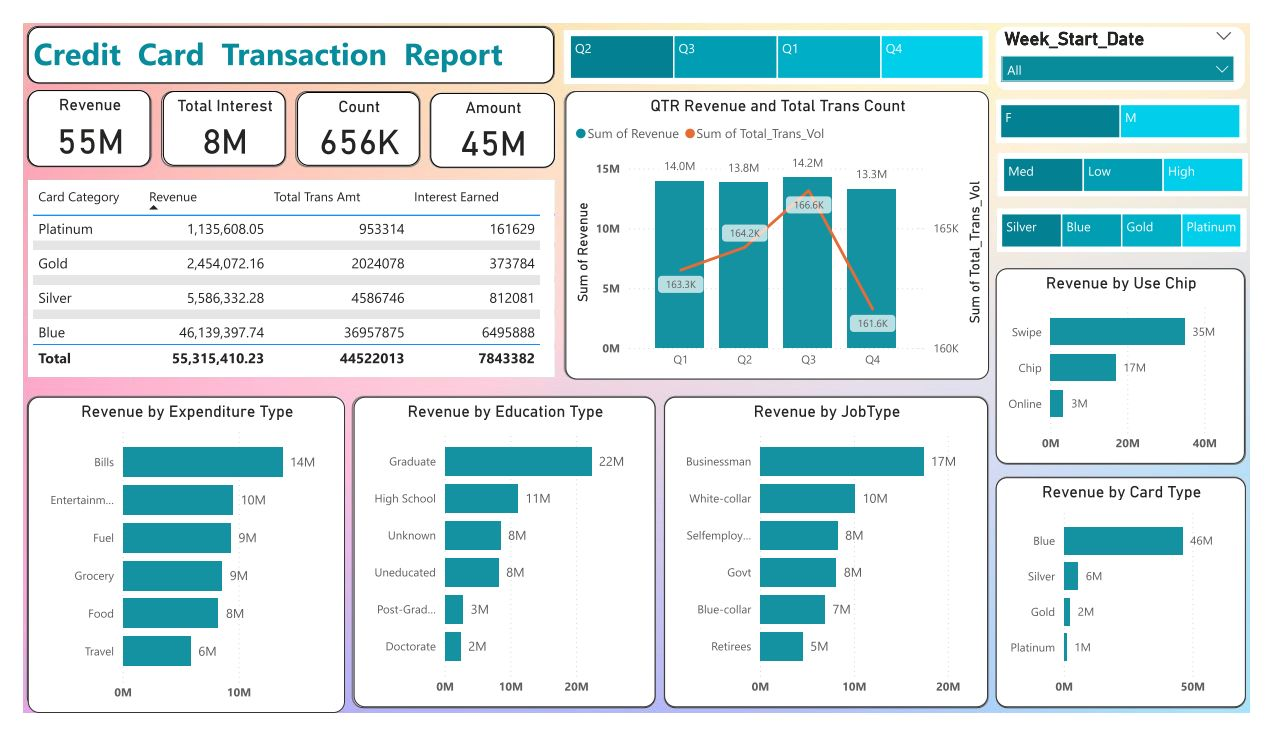

What the dashboard file says about the page in this screenshot:
{"tool":"powerbi","page":{"name":"CC Transaction","canvas":[1280,720],"ordinal":1},"visuals":[{"type":"textbox","box":[5.3,4,549,58.7],"z":0},{"type":"lineStackedColumnComboChart","title":"QTR Revenue and Total Trans Count","fields":{"Category":["Processed_Credit_Card_Data.Qtr"],"Y":["Sum(Processed_Credit_Card_Data.Revenue)"],"Y2":["Sum(Processed_Credit_Card_Data.Total_Trans_Vol)"]},"box":[565.8,71,441.7,300.8],"z":1000},{"type":"barChart","title":"Revenue by Expenditure Type","fields":{"Y":["Sum(Processed_Credit_Card_Data.Revenue)"],"Category":["Processed_Credit_Card_Data.Exp Type"]},"box":[5,390,330.6,330],"z":2000},{"type":"barChart","title":"Revenue by Education Type","fields":{"Y":["Sum(Processed_Credit_Card_Data.Revenue)"],"Category":["customer.Education_Level"]},"box":[345,390,315,324.4],"z":3000},{"type":"barChart","title":"Revenue by JobType","fields":{"Y":["Sum(Processed_Credit_Card_Data.Revenue)"],"Category":["customer.Customer_Job"]},"box":[669.4,390,337.5,324.4],"z":4000},{"type":"barChart","title":"Revenue by Card Type","fields":{"Y":["Sum(Processed_Credit_Card_Data.Revenue)"],"Category":["Processed_Credit_Card_Data.Card_Category"]},"box":[1015,474.4,260.6,240],"z":5000},{"type":"barChart","title":"Revenue by Use Chip","fields":{"Y":["Sum(Processed_Credit_Card_Data.Revenue)"],"Category":["Processed_Credit_Card_Data.Use Chip"]},"box":[1015,255.8,260,204.2],"z":6000},{"type":"tableEx","fields":{"Values":["Processed_Credit_Card_Data.Card_Category","Sum(Processed_Credit_Card_Data.Revenue)","Sum(Processed_Credit_Card_Data.Total_Trans_Amt)","Sum(Processed_Credit_Card_Data.Interest_Earned)"]},"box":[5.1,163.7,549,205.7],"z":7000},{"type":"card","title":"Revenue","fields":{"Values":["Sum(Processed_Credit_Card_Data.Revenue)"]},"box":[5,70,128,80],"z":8000},{"type":"card","title":"Amount","fields":{"Values":["Sum(Processed_Credit_Card_Data.Total_Trans_Amt)"]},"box":[425.3,72.7,130,78],"z":9000},{"type":"card","title":"Total Interest","fields":{"Values":["Sum(Processed_Credit_Card_Data.Interest_Earned)"]},"box":[145.6,71,128.1,78],"z":10000},{"type":"card","title":"Count","fields":{"Values":["Sum(Processed_Credit_Card_Data.Total_Trans_Vol)"]},"box":[285.6,71.9,128.1,77],"z":11000},{"type":"slicer","fields":{"Values":["Processed_Credit_Card_Data.Week_Start_Date"]},"box":[1014.9,4.3,259.7,66],"z":12000},{"type":"treemap","fields":{"Group":["Processed_Credit_Card_Data.Qtr"],"Values":["CountNonNull(Processed_Credit_Card_Data.Client_Num)"]},"box":[565.6,7.5,441.2,55],"z":13000},{"type":"treemap","fields":{"Values":["Avg(Processed_Credit_Card_Data.Client_Num)"],"Group":["customer.Gender"]},"box":[1014.7,80,260.7,45.3],"z":14000},{"type":"treemap","fields":{"Values":["Avg(Processed_Credit_Card_Data.Client_Num)"],"Group":["Processed_Credit_Card_Data.Card_Category"]},"box":[1016,194,260,45.3],"z":15000},{"type":"treemap","fields":{"Values":["Avg(Processed_Credit_Card_Data.Client_Num)"],"Group":["customer.IncomeGroup"]},"box":[1018,136,260,45.3],"z":16000}]}

Visuals, with their boxes in screenshot pixels (x1, y1, x2, y2), scaled from the page's 1280x720 canvas onto the 1272x736 screenshot:
textbox: rect(5, 4, 551, 64)
"QTR Revenue and Total Trans Count" lineStackedColumnComboChart: rect(562, 73, 1001, 380)
"Revenue by Expenditure Type" barChart: rect(5, 399, 334, 735)
"Revenue by Education Type" barChart: rect(343, 399, 656, 730)
"Revenue by JobType" barChart: rect(665, 399, 1001, 730)
"Revenue by Card Type" barChart: rect(1009, 485, 1268, 730)
"Revenue by Use Chip" barChart: rect(1009, 261, 1267, 470)
tableEx - Processed_Credit_Card_Data.Card_Category x Sum(Processed_Credit_Card_Data.Revenue): rect(5, 167, 551, 378)
"Revenue" card: rect(5, 72, 132, 153)
"Amount" card: rect(423, 74, 552, 154)
"Total Interest" card: rect(145, 73, 272, 152)
"Count" card: rect(284, 73, 411, 152)
slicer - Processed_Credit_Card_Data.Week_Start_Date: rect(1009, 4, 1267, 72)
treemap - Processed_Credit_Card_Data.Qtr x CountNonNull(Processed_Credit_Card_Data.Client_Num): rect(562, 8, 1001, 64)
treemap - Avg(Processed_Credit_Card_Data.Client_Num) x customer.Gender: rect(1008, 82, 1267, 128)
treemap - Avg(Processed_Credit_Card_Data.Client_Num) x Processed_Credit_Card_Data.Card_Category: rect(1010, 198, 1268, 245)
treemap - Avg(Processed_Credit_Card_Data.Client_Num) x customer.IncomeGroup: rect(1012, 139, 1270, 185)
